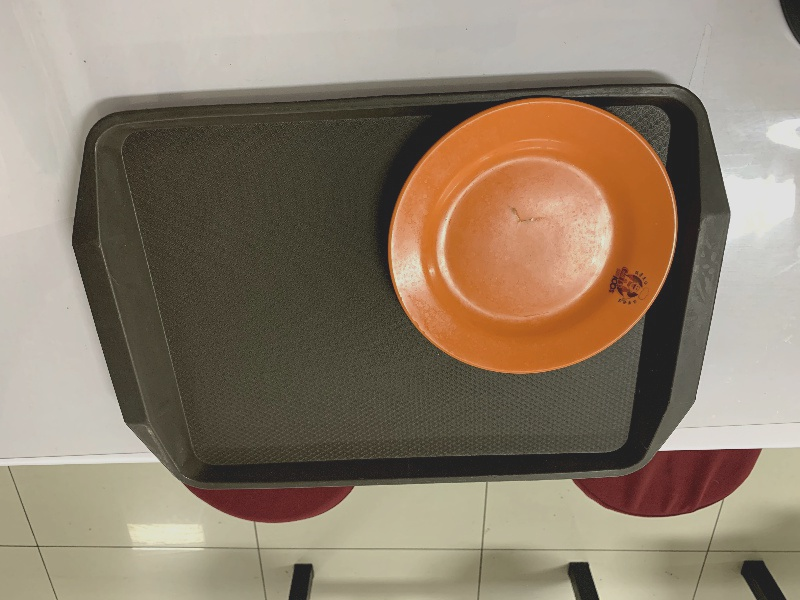dish10: (383, 95, 678, 378)
